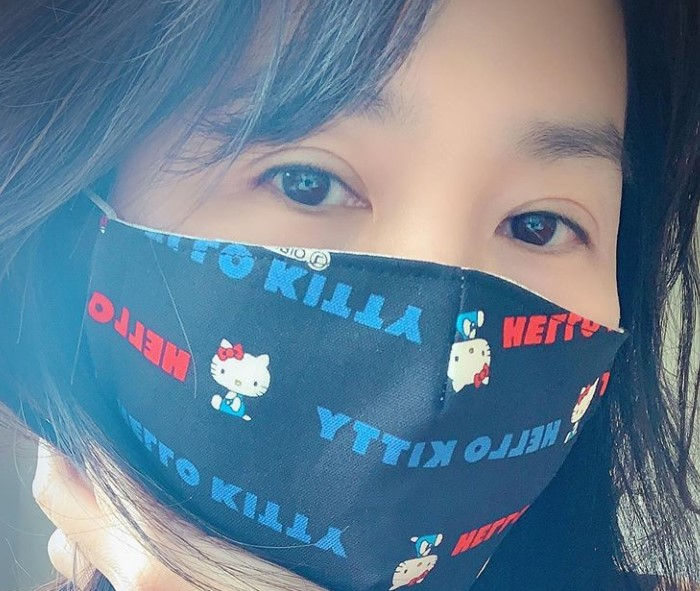face_with_mask: (35, 3, 665, 591)
